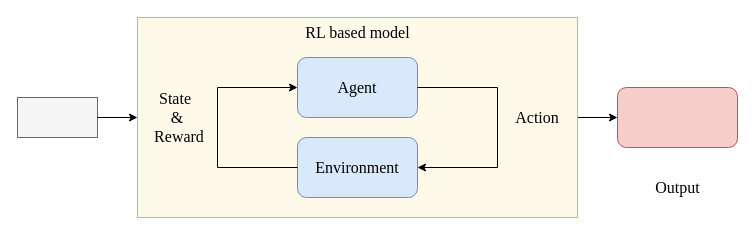
Image size: 755x235. Some labels were removed from this diagram. The shapes that lost their labels are listed below. From the top down, each one's box as (x1, y1, x2, y2) in pixels, then its label:
(16, 96, 98, 138): Input
(616, 86, 738, 148): Target
